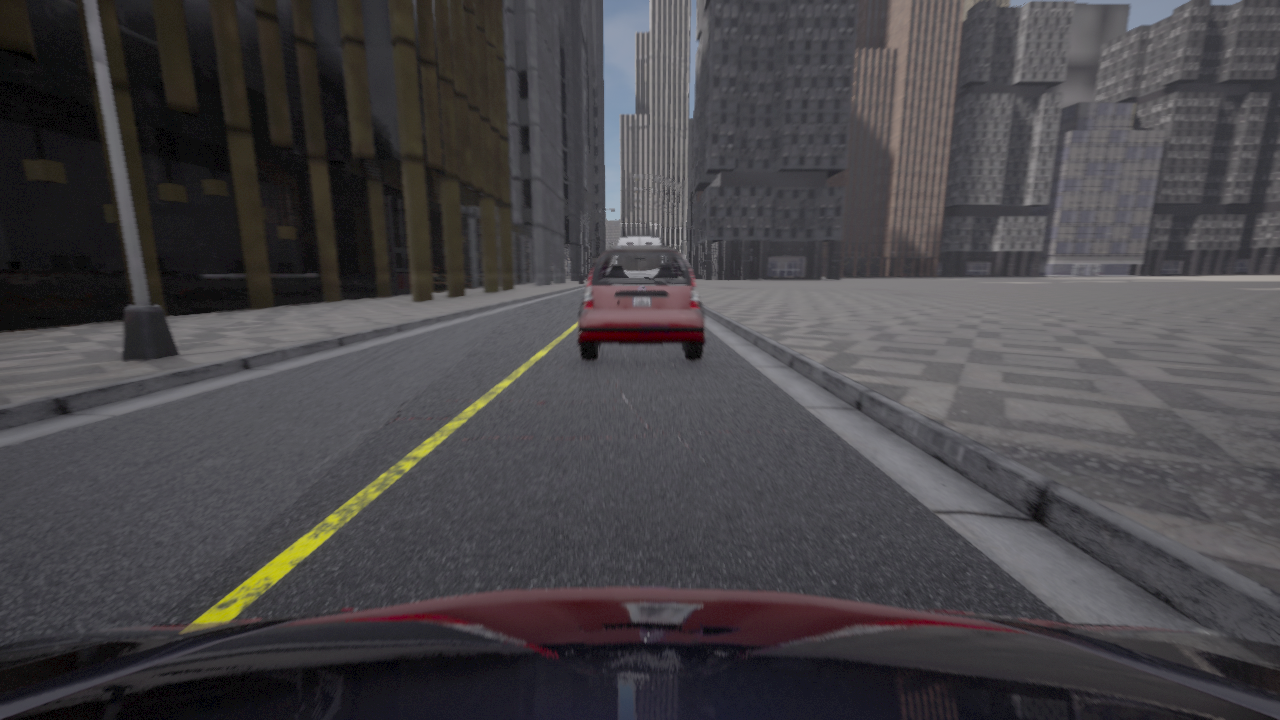cyclist: (0, 588, 1279, 719), (578, 246, 704, 360), (617, 237, 661, 246), (585, 275, 588, 276)
